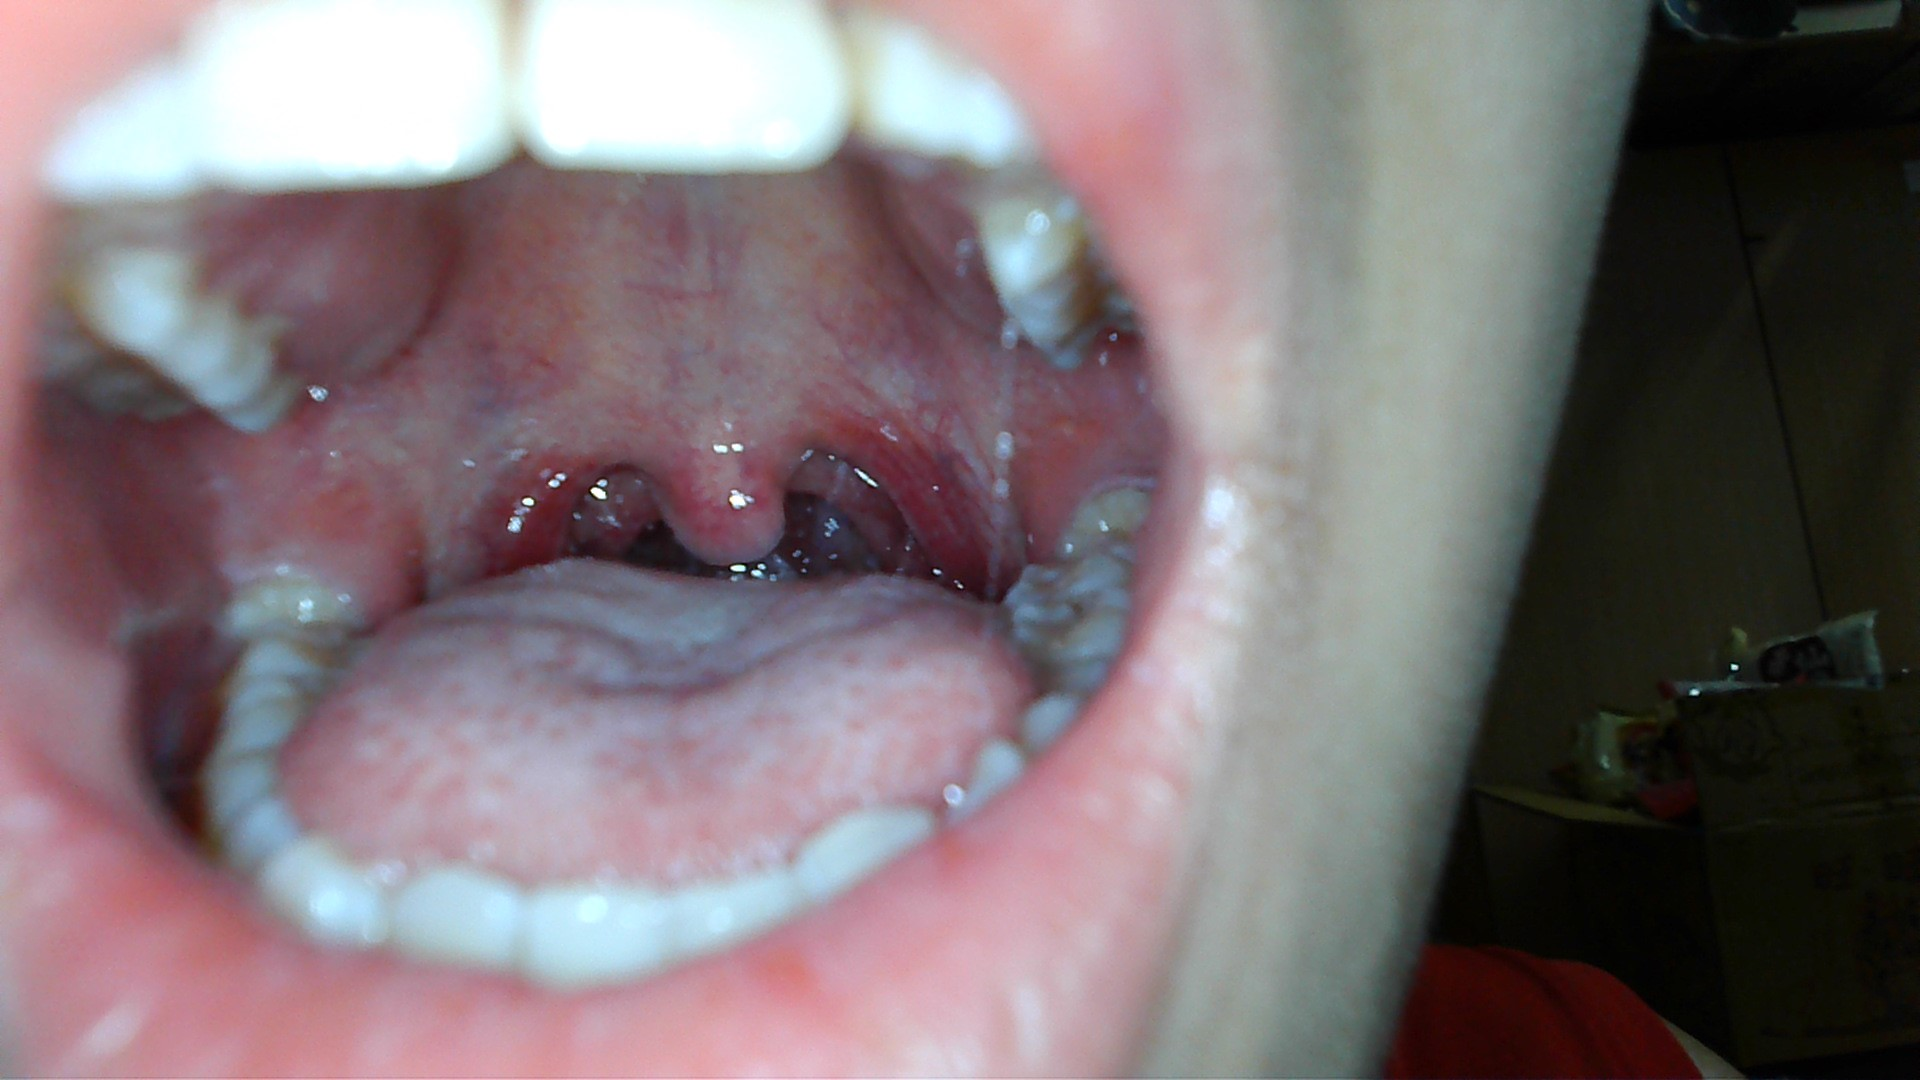throat: (851, 392, 982, 568), (477, 425, 593, 553)
